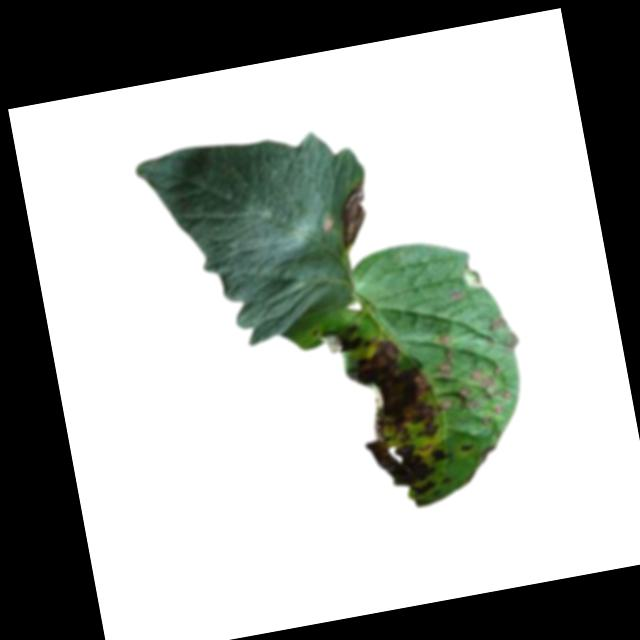Early_blight: (320, 314, 459, 508), (330, 179, 379, 251), (433, 331, 458, 381), (472, 364, 497, 390), (458, 383, 478, 413), (488, 313, 509, 331), (459, 439, 476, 452)
